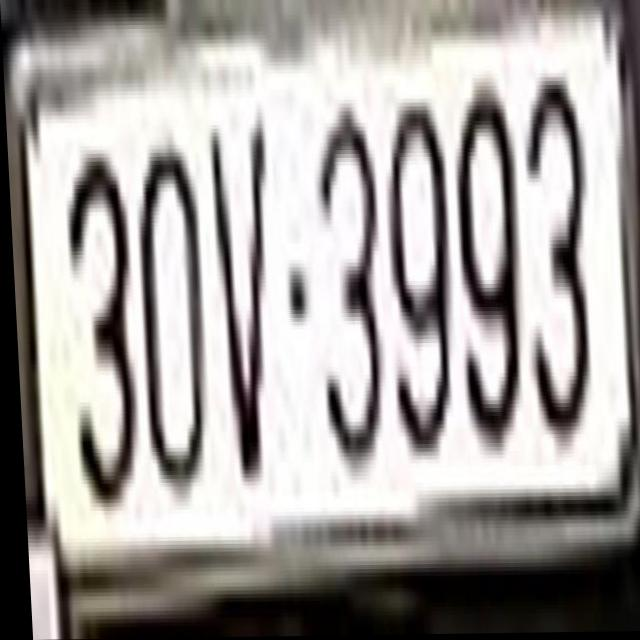0: (132, 141, 210, 530)
3: (307, 101, 384, 477), (60, 146, 137, 511), (519, 78, 588, 444)
9: (449, 83, 521, 449), (380, 88, 449, 450)
V: (205, 109, 276, 483)
